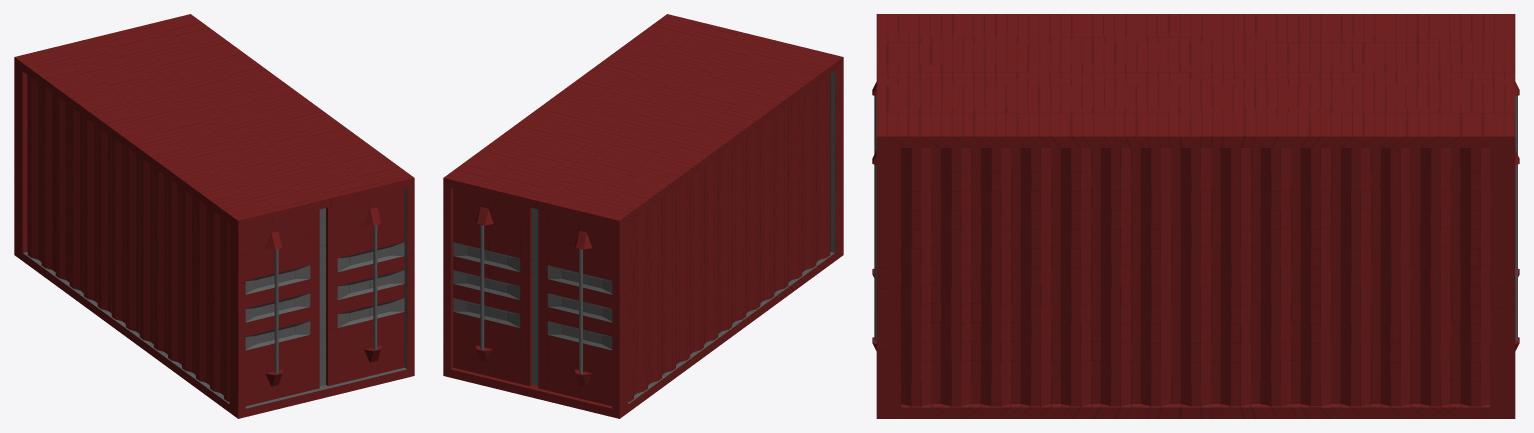
File: seecontainer.fbx
3 renders of one model, left to right at view 1: azimuth 30°, elevation 25°; view 2: azimuth 150°, elevation 25°; view 3: azimuth 270°, elevation 25°, orthographic. The views are drawn at different scales.
Visible parts, largest first — view 1: Cube; view 2: Cube; view 3: Cube.
Part boxes in pixels (left/top/right/bottom): Cube: left=14, top=14, right=414, bottom=418; Cube: left=443, top=14, right=843, bottom=418; Cube: left=872, top=14, right=1519, bottom=418.
Bounding box in the file's own units: 483 × 518 × 1078.
